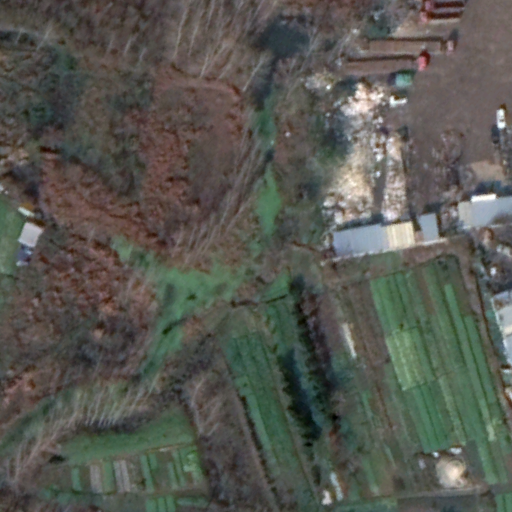msw: (324, 80, 410, 231)
